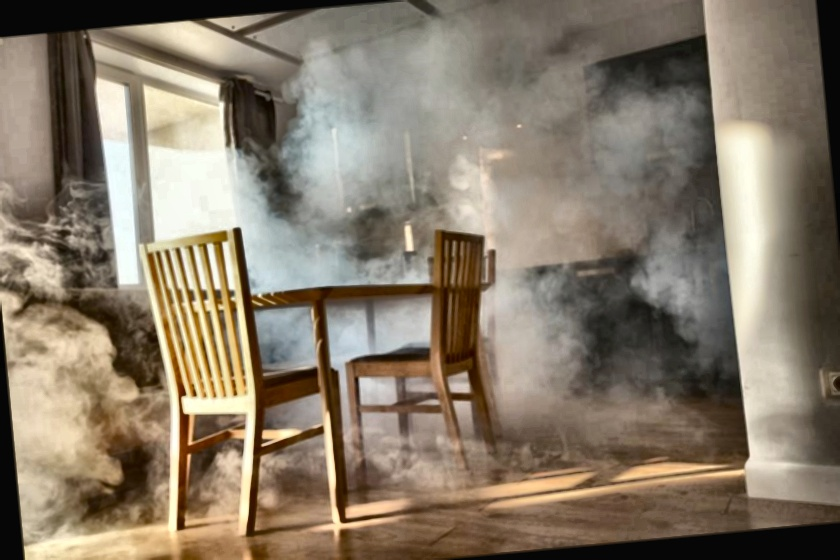smoke: (288, 0, 715, 232), (0, 209, 162, 524), (213, 146, 431, 375)
